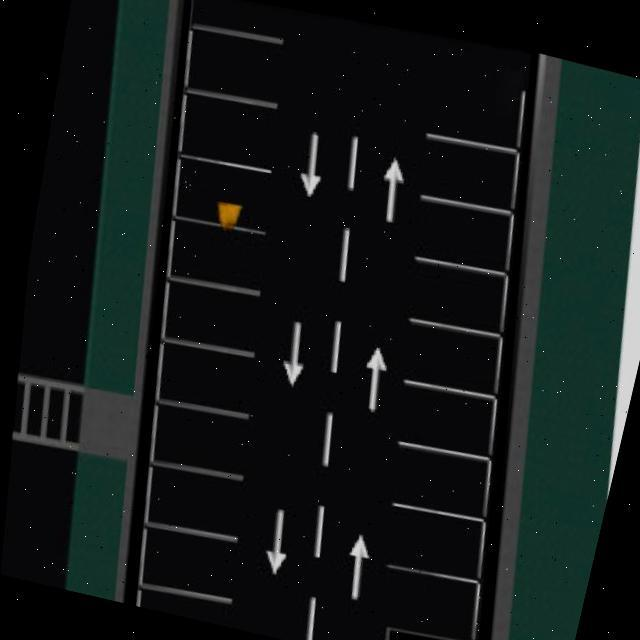garbage-trXY: (212, 199, 241, 223)
